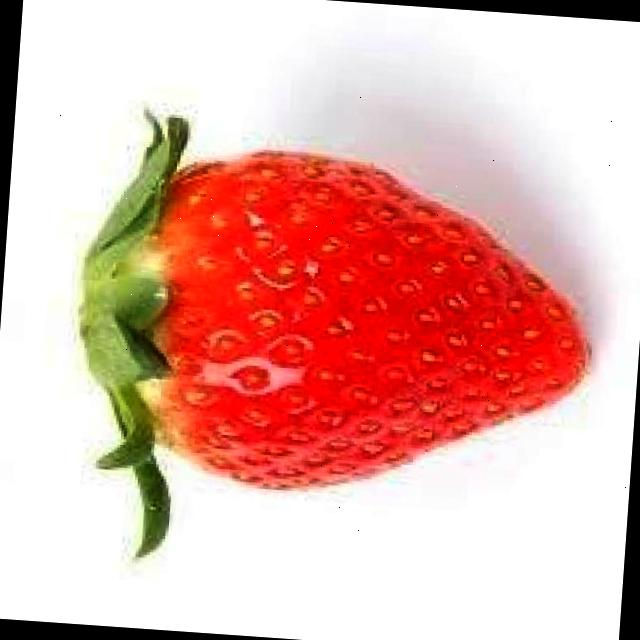strawberry: (75, 134, 608, 512)
